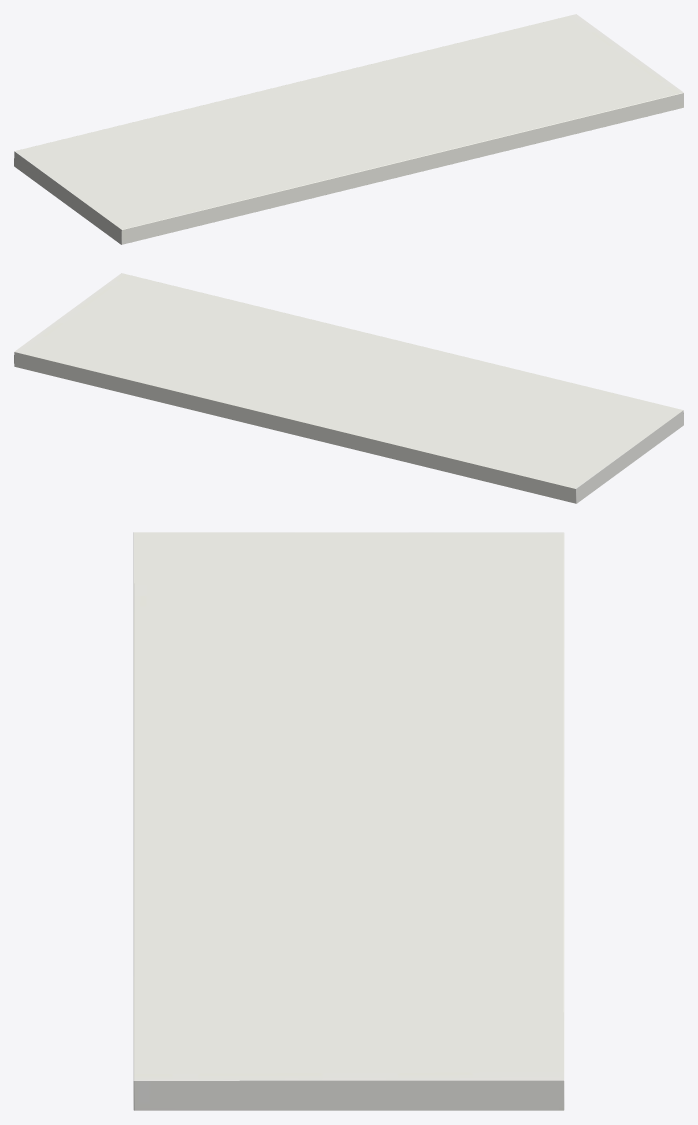
File: burhult_poka_80400042.glb
3 views of the same model, one above another, from view 1: azimuth 30°, elevation 25°; view 2: azimuth 150°, elevation 25°; view 3: azimuth 270°, elevation 25° (orthographic). The views are drawn at different scales.
Visible parts, largest first — view 1: burhult_poka_80400042; view 2: burhult_poka_80400042; view 3: burhult_poka_80400042.
Boxes of the visible parts, x1,y1,x2,y2 form: burhult_poka_80400042: (14,14,683,244); burhult_poka_80400042: (14,273,683,503); burhult_poka_80400042: (133,532,564,1110).
Size of the model in its own units: 0.5881 by 0.015 by 0.195.
Materials: 1 (1 with a texture image).
